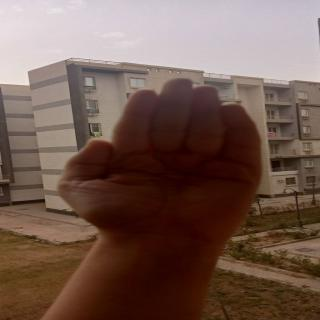SEEN: (57, 75, 270, 247)
